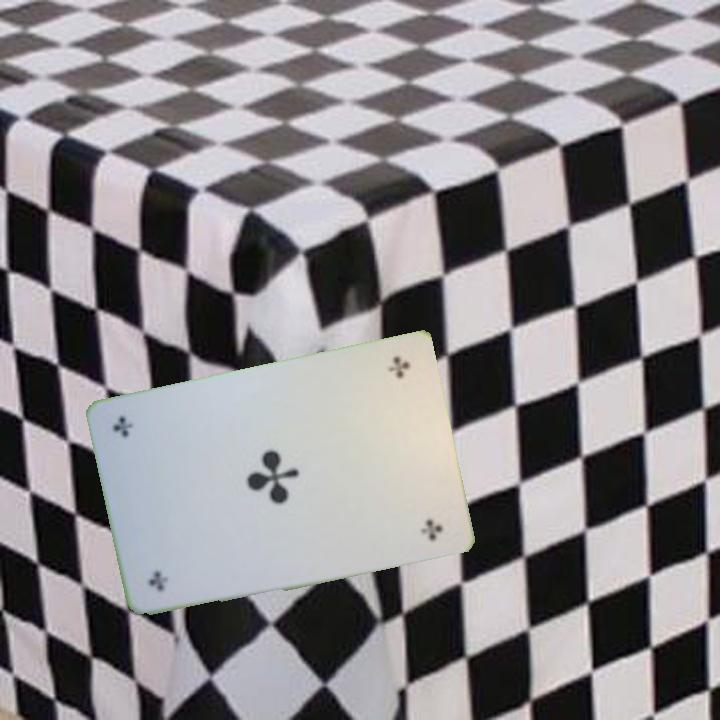c_a.png: (334, 348, 438, 463), (123, 490, 227, 604)
